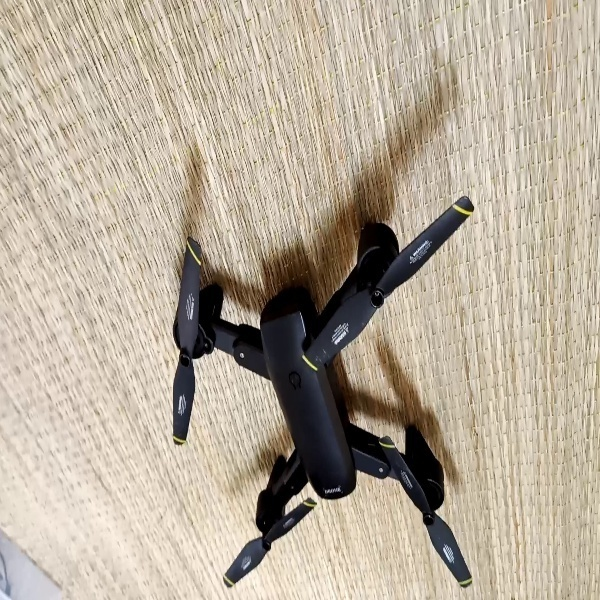drone: (156, 194, 483, 592)
